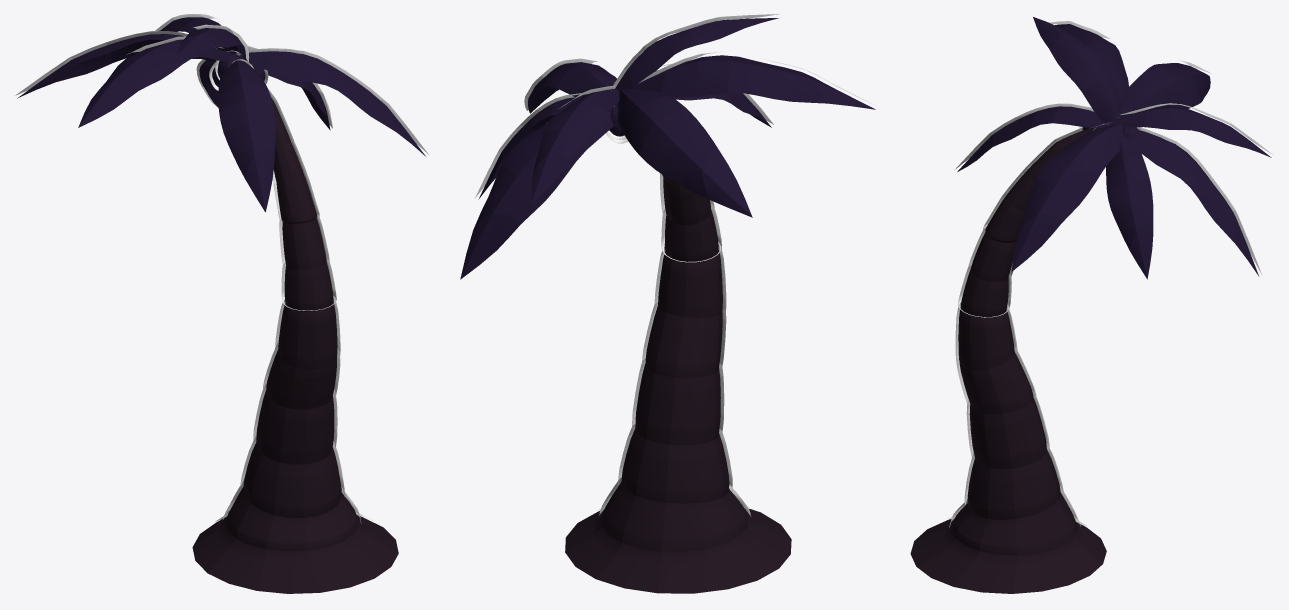
The model's file is stolasTree1.glb.
The picture shows the model from 3 angles, left to right: view 1: azimuth 30°, elevation 25°; view 2: azimuth 150°, elevation 25°; view 3: azimuth 270°, elevation 25°; orthographic projection. The views are drawn at different scales.
Visible parts, largest first — view 1: stolasTree1_LOD0; view 2: stolasTree1_LOD0; view 3: stolasTree1_LOD0.
Part boxes in pixels (x1,y1,x2,y2): stolasTree1_LOD0: (15,14,428,593); stolasTree1_LOD0: (460,14,877,593); stolasTree1_LOD0: (910,17,1272,593).
Size of what is drawn, in the model's own units: 12.08 by 17.8 by 12.06.
2 materials, 1 textured.
